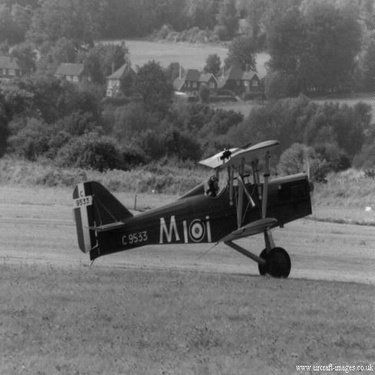airplane: (55, 132, 316, 294)
